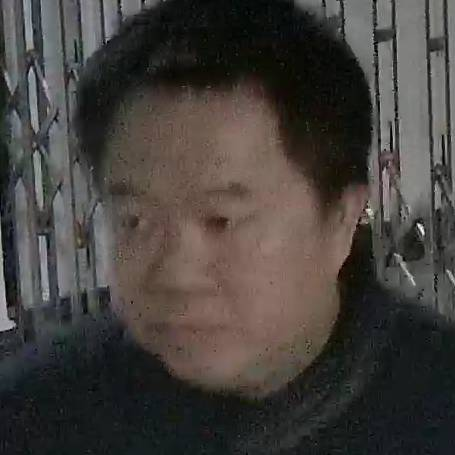caibo: (87, 81, 359, 416)
